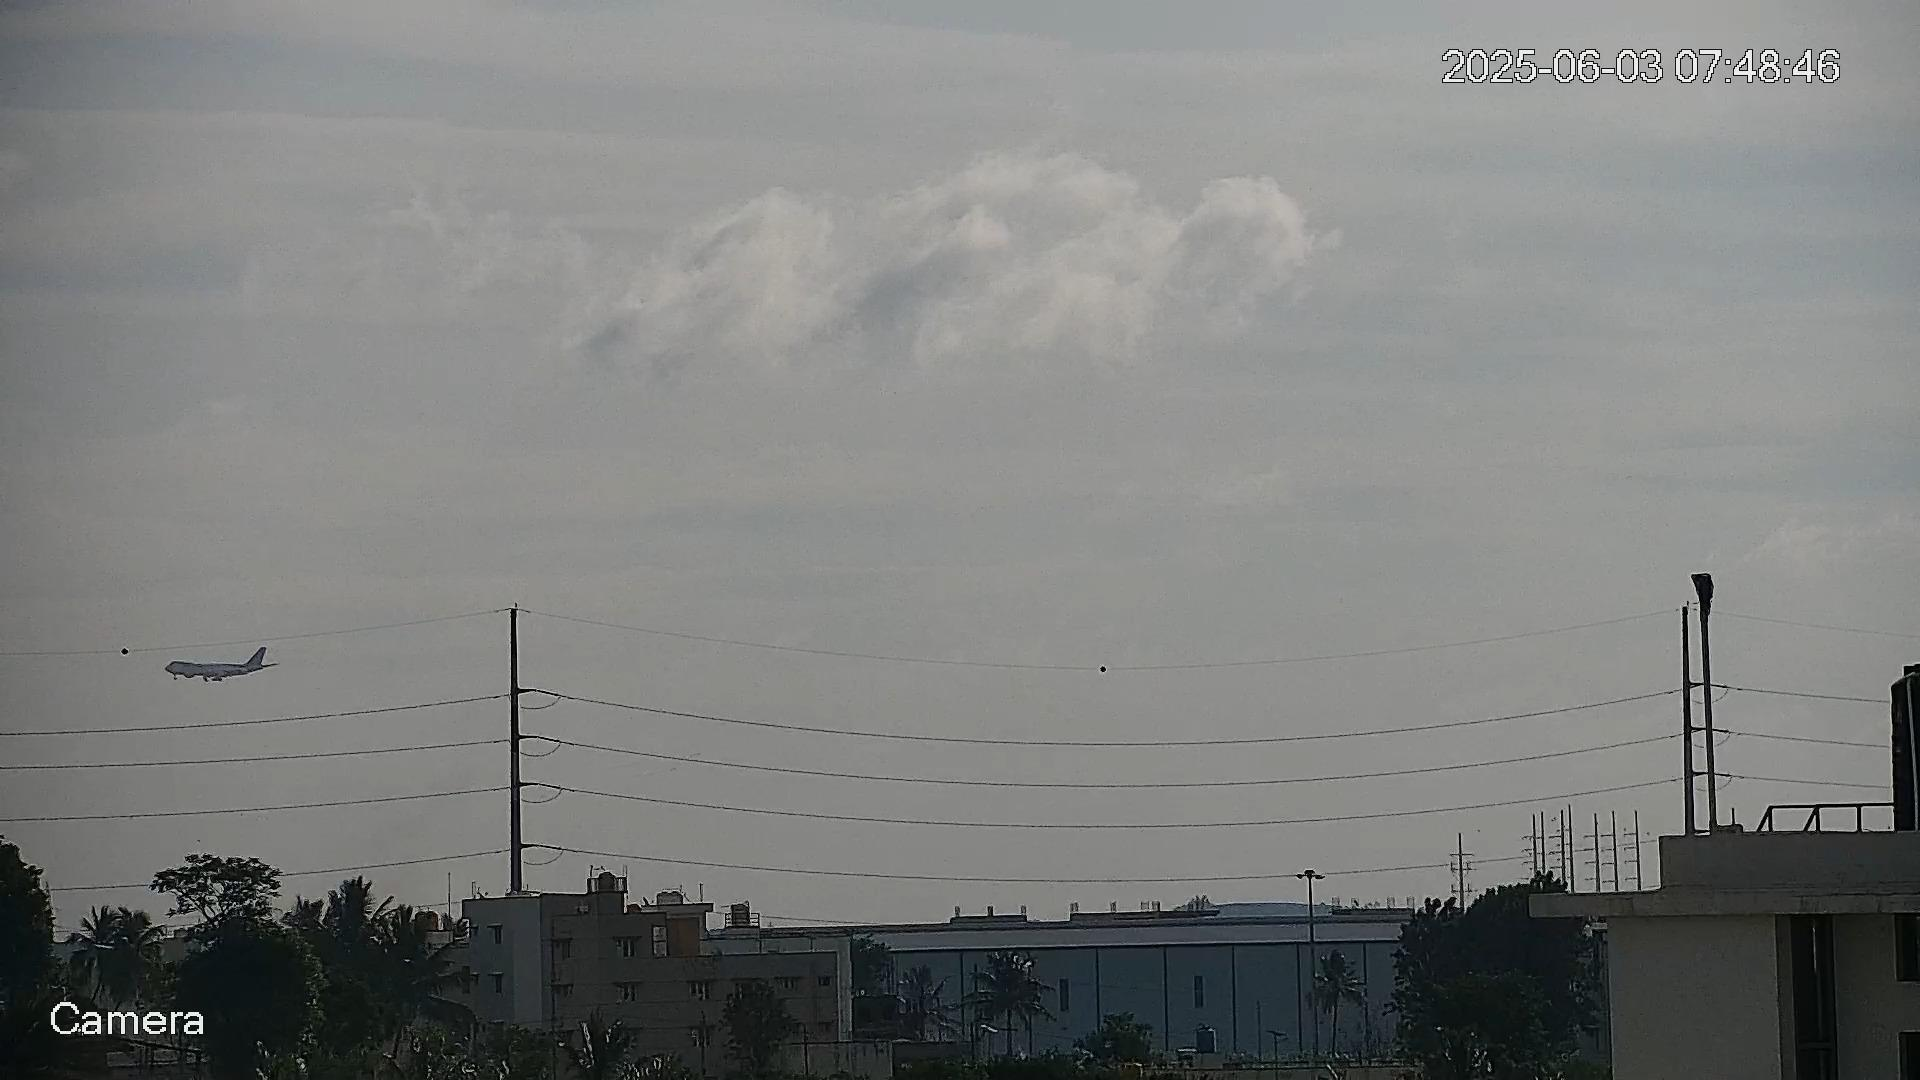Aircraft: (165, 647, 277, 684)
